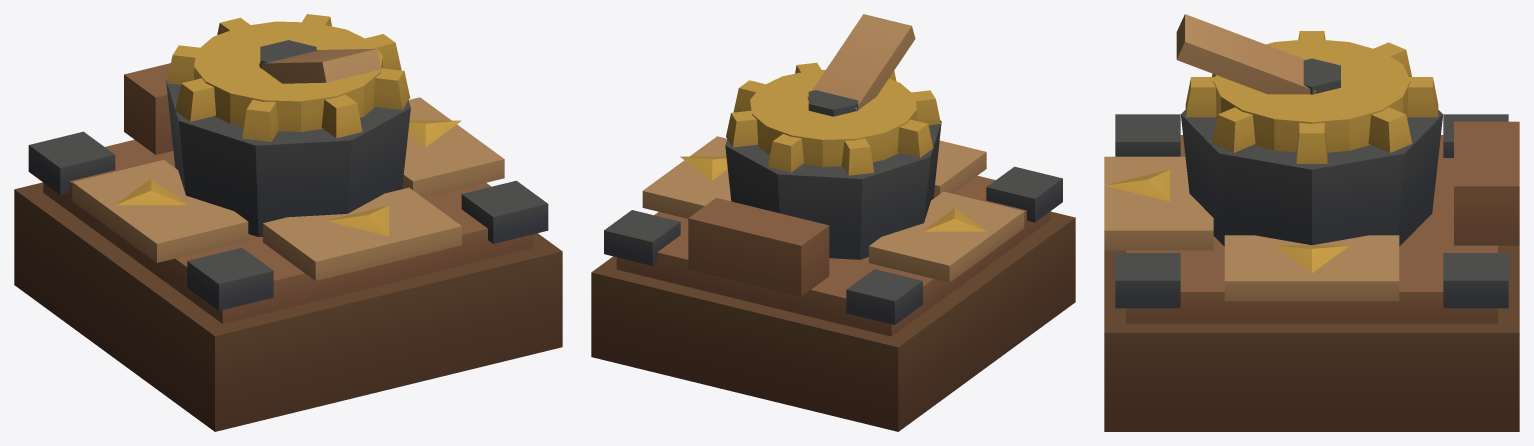
Rendered from logi_splitter.glb.
The picture shows the model from 3 angles, left to right: view 1: azimuth 30°, elevation 25°; view 2: azimuth 150°, elevation 25°; view 3: azimuth 270°, elevation 25°; orthographic projection. The views are drawn at different scales.
Visible parts, largest first — view 1: logi_splitter; view 2: logi_splitter; view 3: logi_splitter.
Part boxes in pixels (x1,y1,x2,y2): logi_splitter: (14,14,562,431); logi_splitter: (591,14,1075,431); logi_splitter: (1104,14,1519,431).
Size of the model in its own units: 1.9 by 1.6 by 1.9.
1 material, 1 textured.
